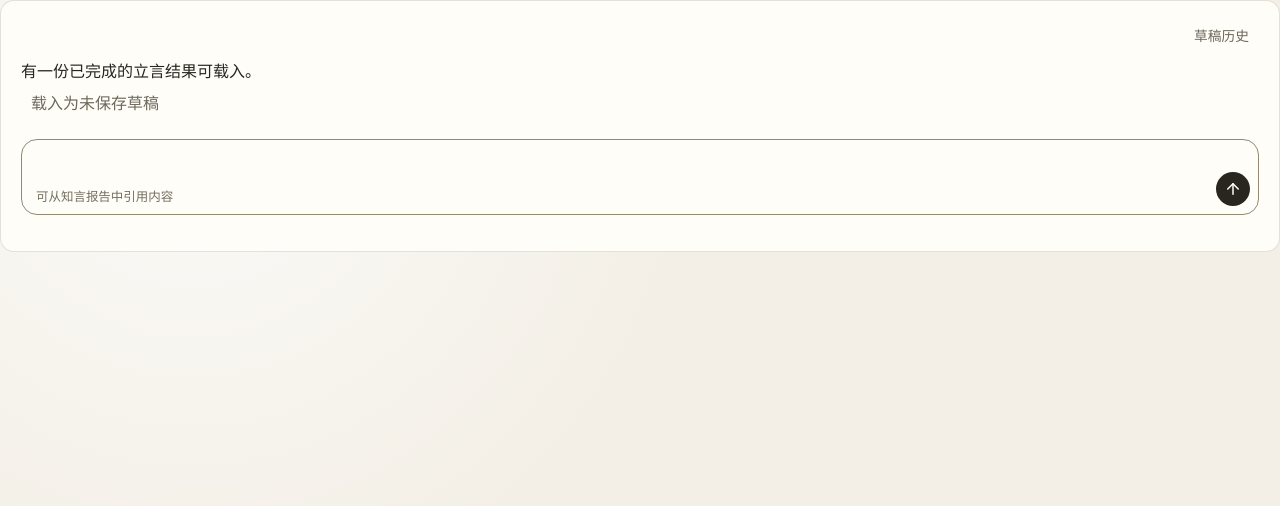
Test: LiyanPanel › offers a completed background result after navigation before loading it locally
Expected: the text "有一份已完成的立言结果可载入。" is shown, x1=21 y1=61 x2=261 y2=81
Expected: the text "未保存的草稿" is not shown
Click the button "载入为未保存草稿" at (95, 103), box x1=21 y1=83 x2=169 y2=123
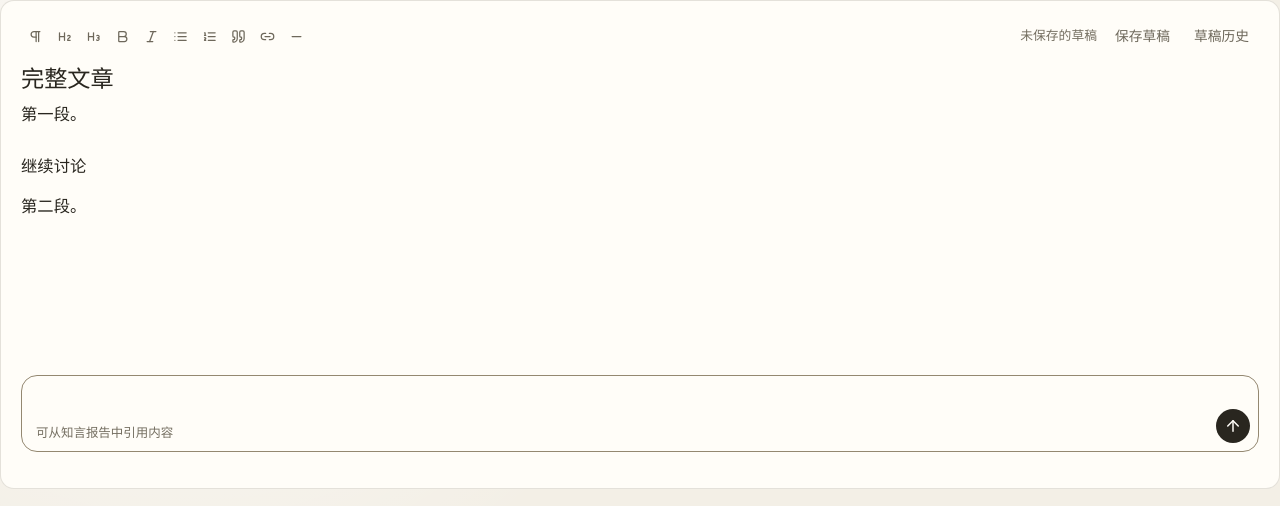
Now the text "未保存的草稿" is shown, box x1=1020 y1=26 x2=1097 y2=46
Now the field showing "完整文章" is shown, box x1=21 y1=59 x2=707 y2=100
